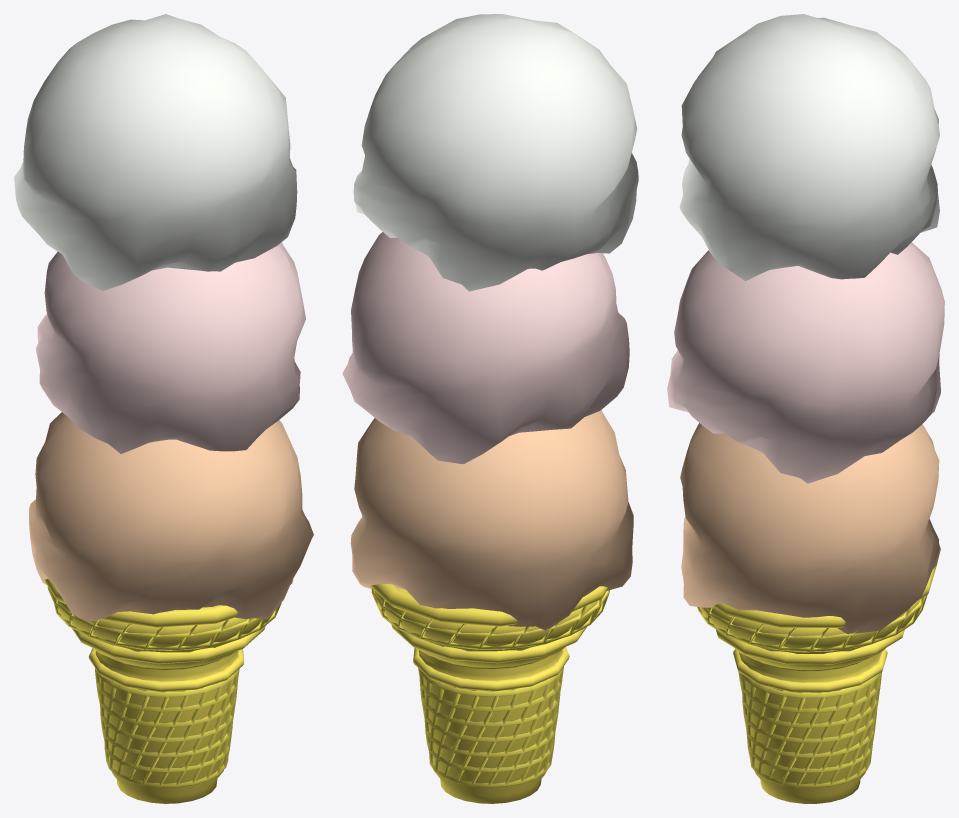
The model's file is CreamCone.fbx.
3 renders of one model, left to right at view 1: azimuth 30°, elevation 25°; view 2: azimuth 150°, elevation 25°; view 3: azimuth 270°, elevation 25°, orthographic.
Visible parts, largest first — view 1: ic_scoopC, ic_scoopA, ic_scoopB, ic_Cone; view 2: ic_scoopC, ic_scoopB, ic_scoopA, ic_Cone; view 3: ic_scoopC, ic_scoopB, ic_scoopA, ic_Cone.
Part boxes in pixels (x1,y1,x2,y2): ic_scoopC: (14,14,297,290); ic_scoopA: (29,412,313,621); ic_scoopB: (36,242,305,453); ic_Cone: (44,578,293,803); ic_scoopC: (353,14,638,291); ic_scoopB: (342,232,629,464); ic_scoopA: (350,410,633,630); ic_Cone: (370,584,609,803); ic_scoopC: (679,14,939,280); ic_scoopB: (667,242,944,483); ic_scoopA: (680,423,940,634); ic_Cone: (697,566,936,803).
Bounding box in the file's own units: 186 × 540 × 180.
